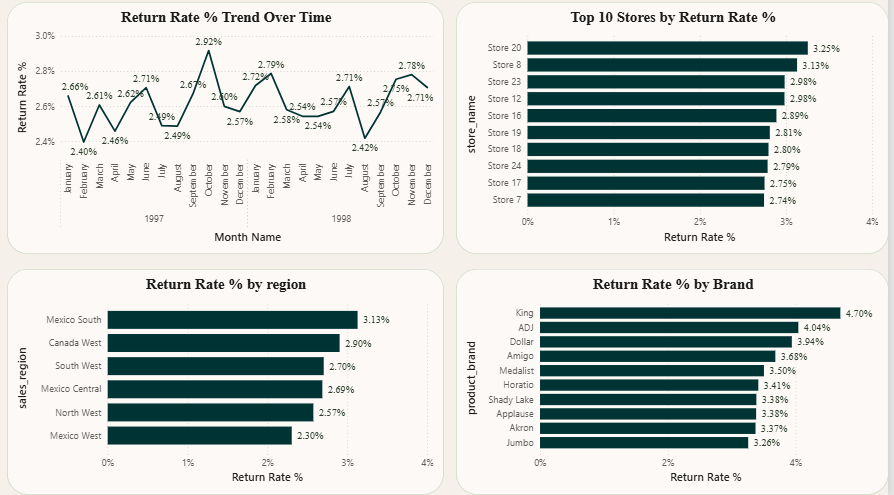

What the dashboard file says about the page in this screenshot:
{"tool":"powerbi","page":{"name":"Returns","canvas":[1280,720],"ordinal":3},"visuals":[{"type":"lineChart","title":"Return Rate % Trend Over Time","fields":{"Category":["Dim_Calendar.Year ","Dim_Calendar.Month Name"],"Y":["Fact_Transactions.Return Rate %"]},"box":[10.2,10.2,629.3,362.9],"z":0},{"type":"clusteredBarChart","title":"Return Rate % by region","fields":{"Category":["Dim_Regions.sales_region"],"Y":["Fact_Transactions.Return Rate %"]},"box":[10.2,395.1,629.3,324.9],"z":1},{"type":"clusteredBarChart","title":"Top 10 Stores by Return Rate %","fields":{"Category":["Dim_Stores.store_name"],"Y":["Fact_Transactions.Return Rate %"]},"box":[657.1,10.2,623.4,362.9],"z":2},{"type":"clusteredBarChart","title":"Return Rate % by Brand","fields":{"Category":["Dim_Products.product_brand"],"Y":["Fact_Transactions.Return Rate %"]},"box":[657.1,395.1,623.4,324.9],"z":3}]}

Visuals, with their boxes in screenshot pixels (x1, y1, x2, y2), scaled from the page's 1280x720 canvas onto the 894x495 screenshot:
"Return Rate % Trend Over Time" lineChart: [left=7, top=7, right=447, bottom=257]
"Return Rate % by region" clusteredBarChart: [left=7, top=272, right=447, bottom=494]
"Top 10 Stores by Return Rate %" clusteredBarChart: [left=459, top=7, right=893, bottom=257]
"Return Rate % by Brand" clusteredBarChart: [left=459, top=272, right=893, bottom=494]
